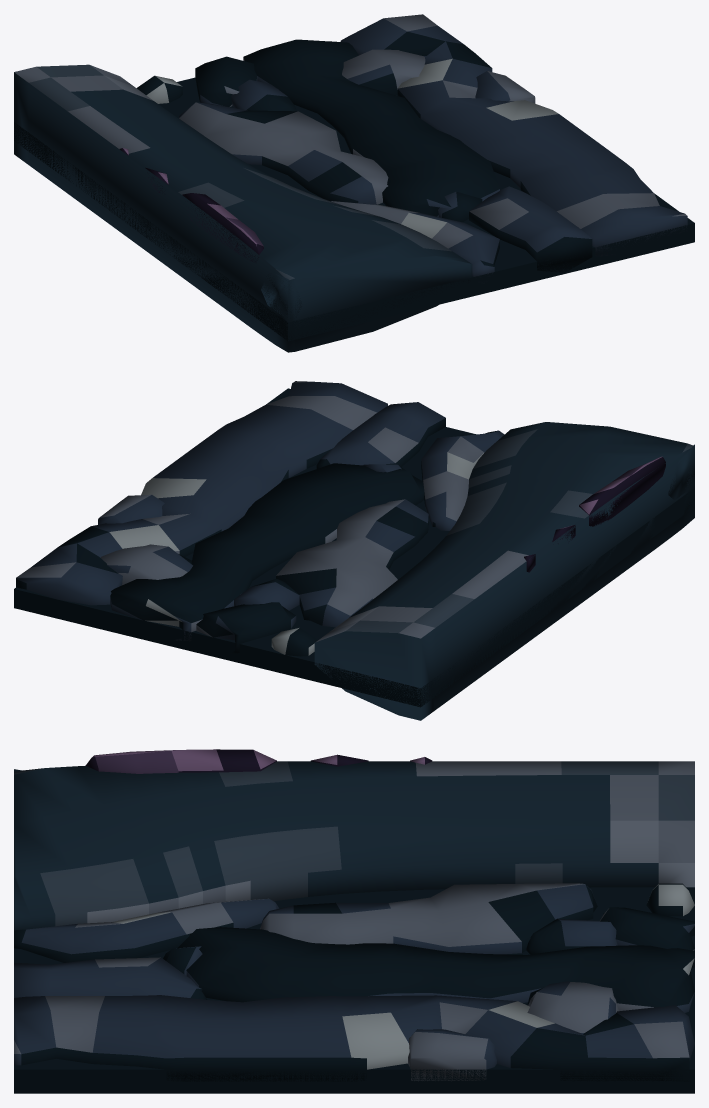
The model's file is newshh-87.glb.
3 renders of one model, top to bottom at view 1: azimuth 30°, elevation 25°; view 2: azimuth 150°, elevation 25°; view 3: azimuth 270°, elevation 25°, orthographic. The views are drawn at different scales.
Visible parts, largest first — view 1: newshh-87; view 2: newshh-87; view 3: newshh-87.
Boxes of the visible parts, x1,y1,x2,y2 form: newshh-87: [14, 14, 694, 352]; newshh-87: [14, 381, 694, 720]; newshh-87: [14, 749, 694, 1093].
Bounding box in the file's own units: 2 × 0.4316 × 2.33.
